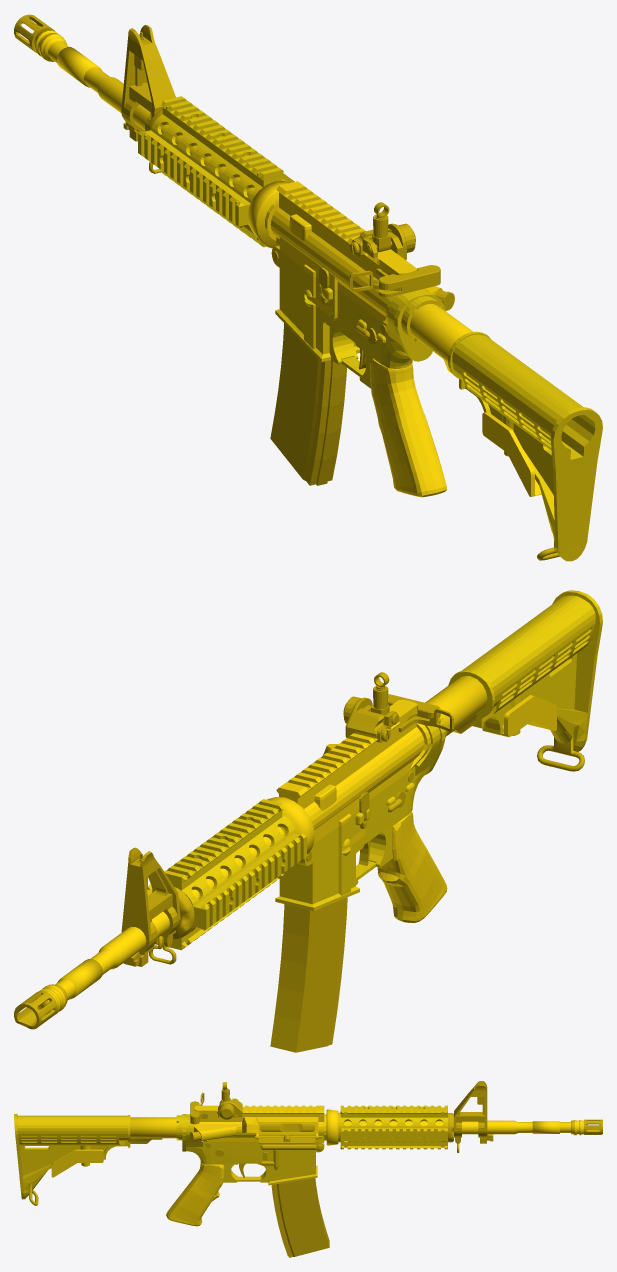
File: m4_gold.glb
3 renders of one model, top to bottom at view 1: azimuth 30°, elevation 25°; view 2: azimuth 150°, elevation 25°; view 3: azimuth 270°, elevation 25°, orthographic. The views are drawn at different scales.
Parts seen in each view (by area): view 1: m4_1_lp_matM4_1_0, m4_1_lp_matM4_2_0, m4_1_lp_matM4_3_0; view 2: m4_1_lp_matM4_1_0, m4_1_lp_matM4_2_0, m4_1_lp_matM4_3_0; view 3: m4_1_lp_matM4_1_0, m4_1_lp_matM4_2_0, m4_1_lp_matM4_3_0.
Boxes of the visible parts, bbox=[...] form: m4_1_lp_matM4_1_0: bbox=[138, 96, 602, 561]; m4_1_lp_matM4_2_0: bbox=[33, 29, 541, 497]; m4_1_lp_matM4_3_0: bbox=[14, 14, 559, 560]; m4_1_lp_matM4_1_0: bbox=[147, 590, 602, 950]; m4_1_lp_matM4_2_0: bbox=[34, 676, 556, 1015]; m4_1_lp_matM4_3_0: bbox=[14, 672, 584, 1052]; m4_1_lp_matM4_1_0: bbox=[14, 1105, 447, 1199]; m4_1_lp_matM4_2_0: bbox=[51, 1105, 583, 1226]; m4_1_lp_matM4_3_0: bbox=[29, 1081, 602, 1257].
Size of the model in its own units: 8.4 by 27.07 by 83.65.
